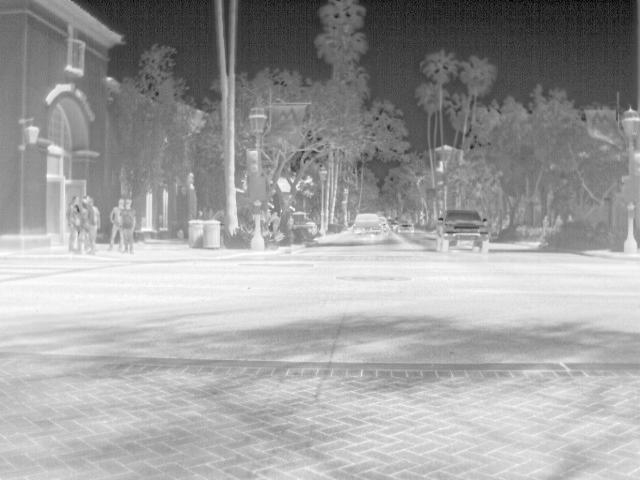car: (436, 210, 492, 256), (350, 212, 385, 236), (398, 220, 417, 234)
person: (78, 199, 97, 254), (66, 195, 83, 256), (106, 200, 124, 248), (123, 199, 139, 251), (85, 197, 102, 229), (267, 210, 282, 232), (542, 210, 554, 236), (552, 213, 564, 232)
